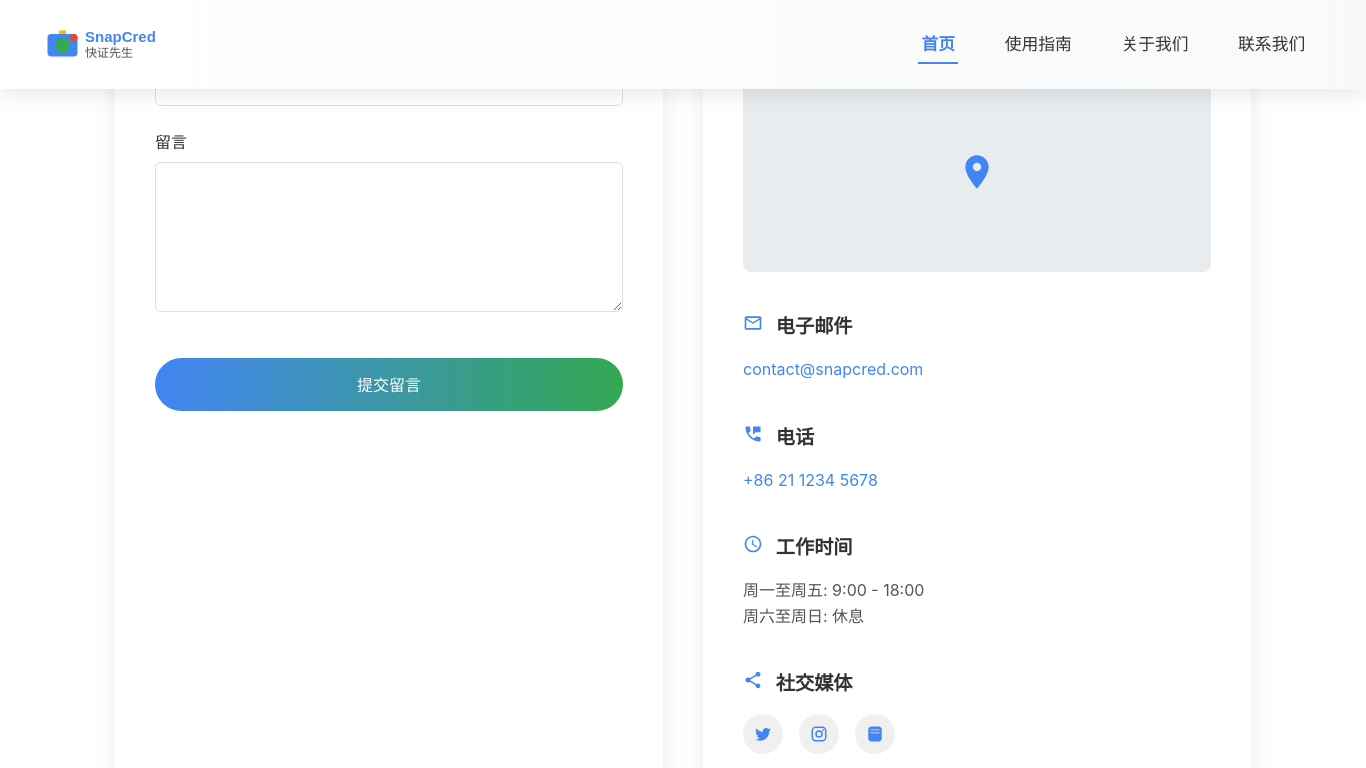
ContactPage › displays validation errors for empty fields on submit
This screenshot has width=1366, height=768.
(page scrolled)
# Click submit without filling in any fields
Click the button "提交留言" at x=389, y=384, box [155,358,623,411]
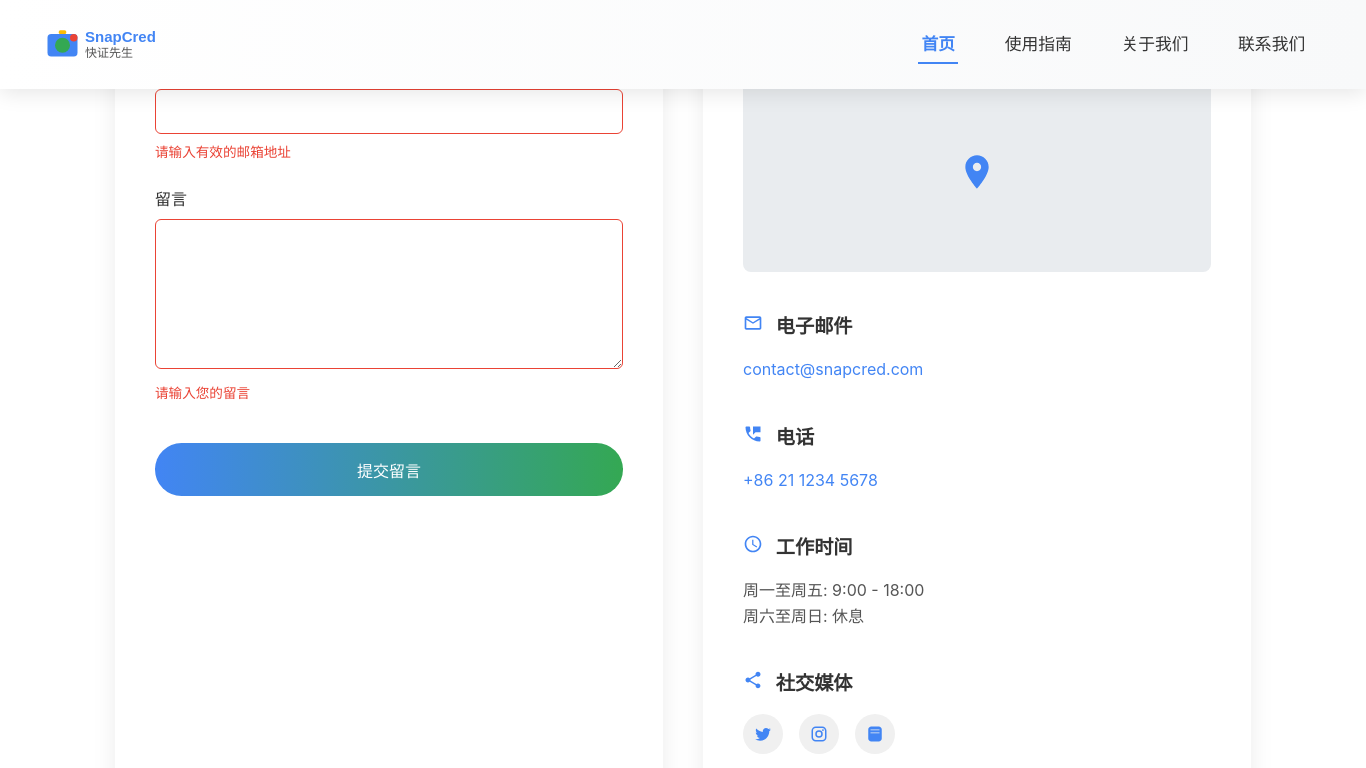
Expected: the text "请输入您的姓名" is shown, [155,14,250,30]
Now the text "请输入有效的邮箱地址" is shown, box [155,144,291,160]
Now the text "请输入您的留言" is shown, box [155,385,250,401]
